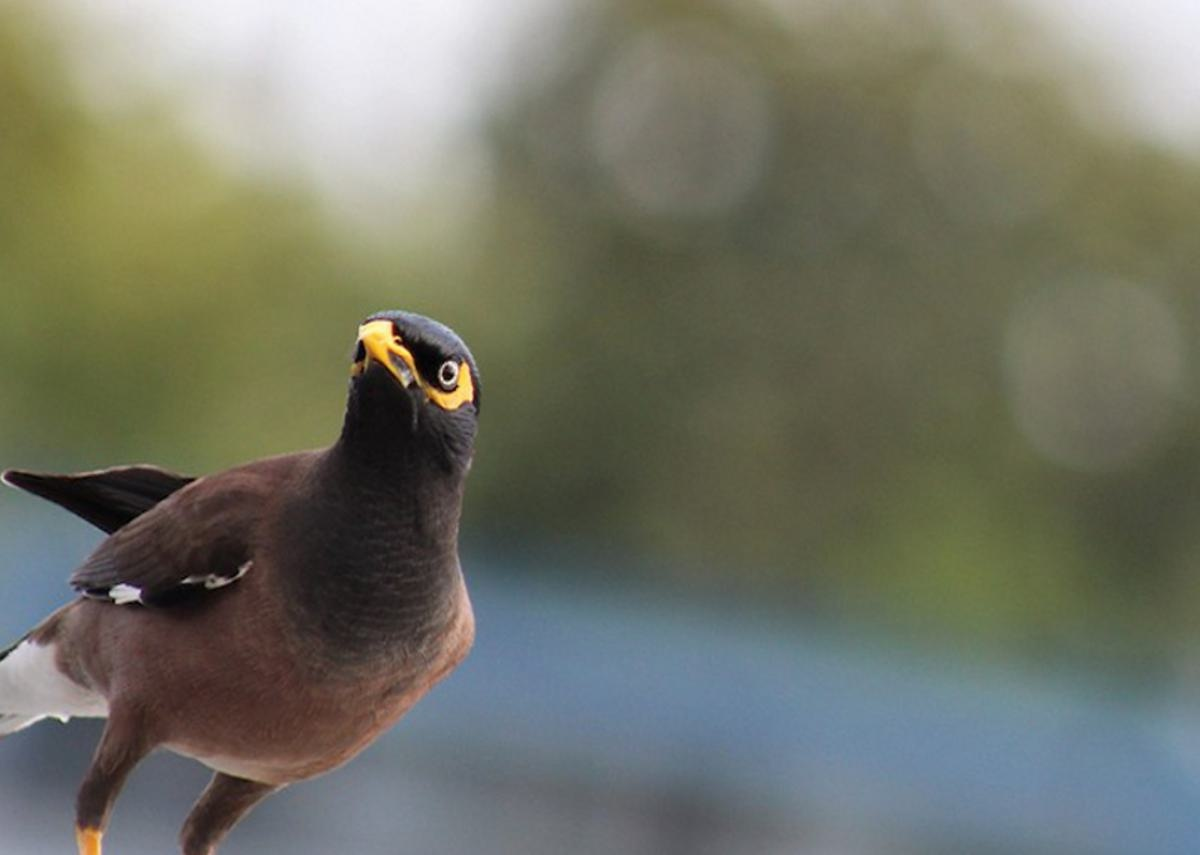myna: (10, 285, 517, 775)
